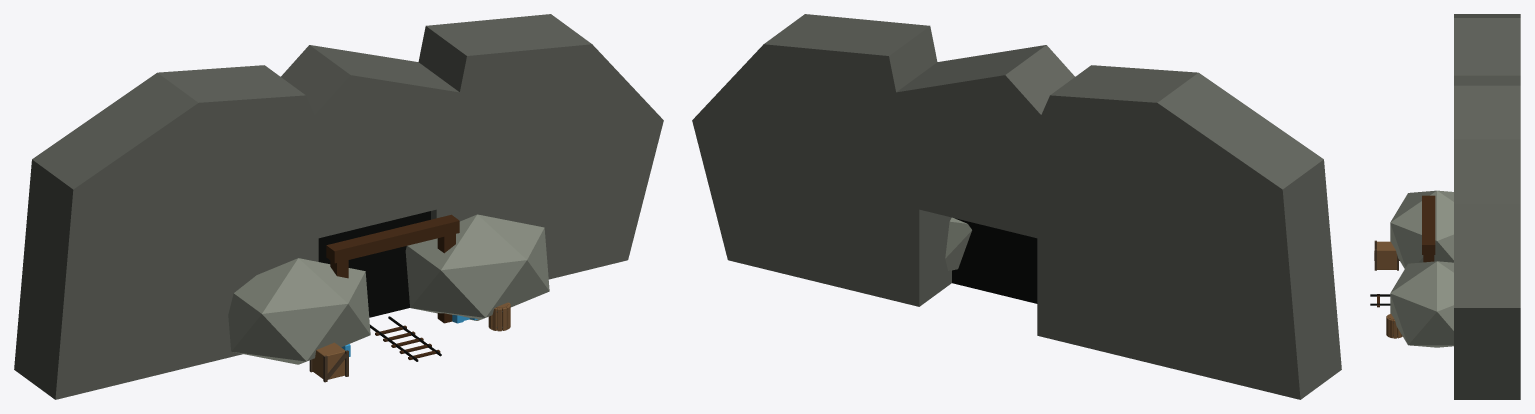
Rendered from mine.glb.
The picture shows the model from 3 angles, left to right: view 1: azimuth 30°, elevation 25°; view 2: azimuth 150°, elevation 25°; view 3: azimuth 270°, elevation 25°; orthographic projection. The views are drawn at different scales.
Visible parts, largest first — view 1: MineCliffLeft, MineCliffRight, MineCliffCrown, MineRock, MineRock.001, MineDark, MineLintel, MineSupplyCrate; view 2: MineCliffLeft, MineCliffRight, MineCliffCrown, MineDark, MineRock.001; view 3: MineCliffRight, MineRock.001, MineCliffLeft, MineCliffCrown, MineRock, MineLintel, MineSupplyCrate, MineSupplyBarrel.
Boxes of the visible parts, <box> form: MineCliffLeft: <box>14,65,348,399</box>; MineCliffRight: <box>418,14,663,279</box>; MineCliffCrown: <box>281,45,465,238</box>; MineRock: <box>228,258,370,364</box>; MineRock.001: <box>405,214,549,320</box>; MineDark: <box>318,211,430,317</box>; MineLintel: <box>326,214,459,263</box>; MineSupplyCrate: <box>309,342,348,382</box>; MineCliffLeft: <box>1005,65,1341,399</box>; MineCliffRight: <box>692,14,951,306</box>; MineCliffCrown: <box>889,45,1074,238</box>; MineDark: <box>952,218,1037,303</box>; MineRock.001: <box>945,217,971,270</box>; MineCliffRight: <box>1454,139,1520,399</box>; MineRock.001: <box>1390,261,1453,347</box>; MineCliffLeft: <box>1454,14,1520,85</box>; MineCliffCrown: <box>1454,85,1520,139</box>; MineRock: <box>1390,190,1453,268</box>; MineLintel: <box>1422,195,1435,254</box>; MineSupplyCrate: <box>1374,240,1399,270</box>; MineSupplyBarrel: <box>1386,313,1402,338</box>.
Bounding box in the file's own units: 34 × 14.75 × 9.
